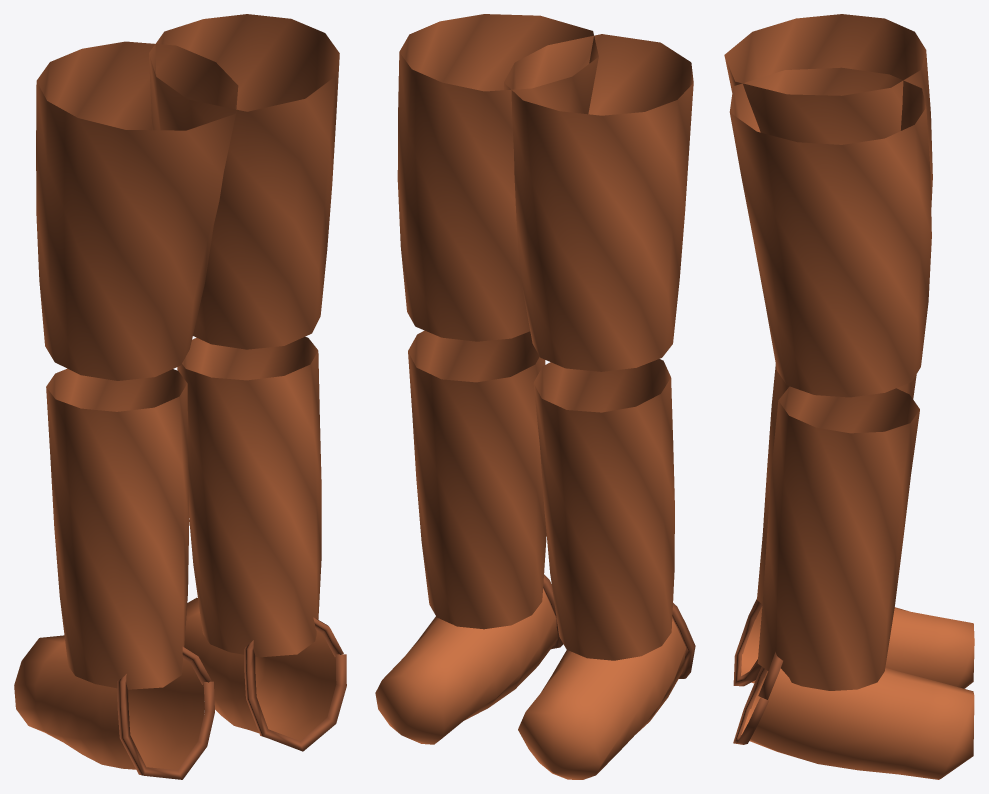
Rendered from copper_greaves.glb.
3 views of the same model, side by side, from view 1: azimuth 30°, elevation 25°; view 2: azimuth 150°, elevation 25°; view 3: azimuth 270°, elevation 25° (orthographic). The views are drawn at different scales.
Parts seen in each view (by area): view 1: copper_greaves_cuisse.L; view 2: copper_greaves_cuisse.L; view 3: copper_greaves_cuisse.L.
Part boxes in pixels (x1,y1,x2,y2): copper_greaves_cuisse.L: (14,14,346,779); copper_greaves_cuisse.L: (375,14,695,779); copper_greaves_cuisse.L: (724,14,974,779).
Bounding box in the file's own units: 0.403 × 0.9485 × 0.3253.
